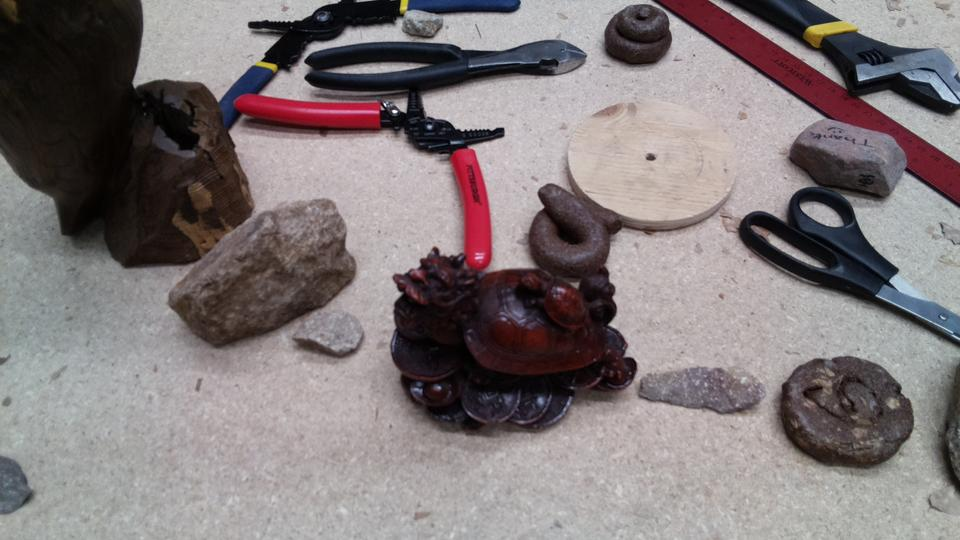poop: (775, 353, 919, 470), (527, 180, 622, 279), (603, 1, 672, 70)
